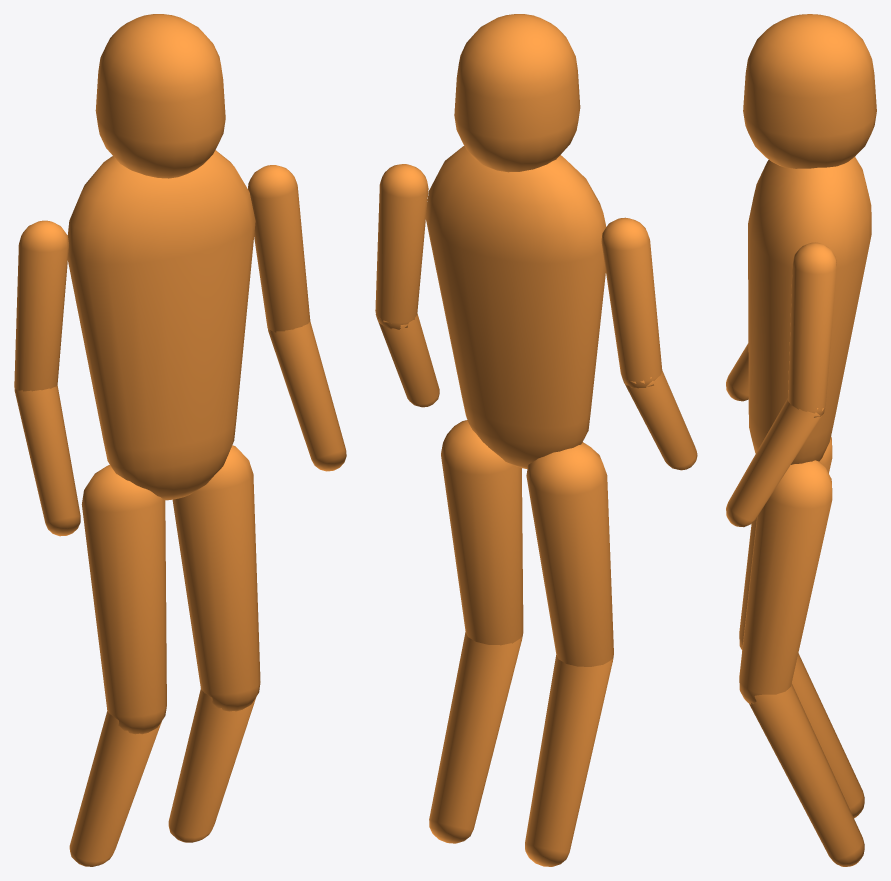
The model's file is person-c.glb.
3 renders of one model, left to right at view 1: azimuth 30°, elevation 25°; view 2: azimuth 150°, elevation 25°; view 3: azimuth 270°, elevation 25°, orthographic. The views are drawn at different scales.
Visible parts, largest first — view 1: person-c; view 2: person-c; view 3: person-c.
Part boxes in pixels (x1,y1,x2,y2): person-c: (14, 14, 346, 866); person-c: (375, 14, 697, 866); person-c: (726, 14, 876, 866).
Bounding box in the file's own units: 0.5632 × 1.53 × 0.2548.
